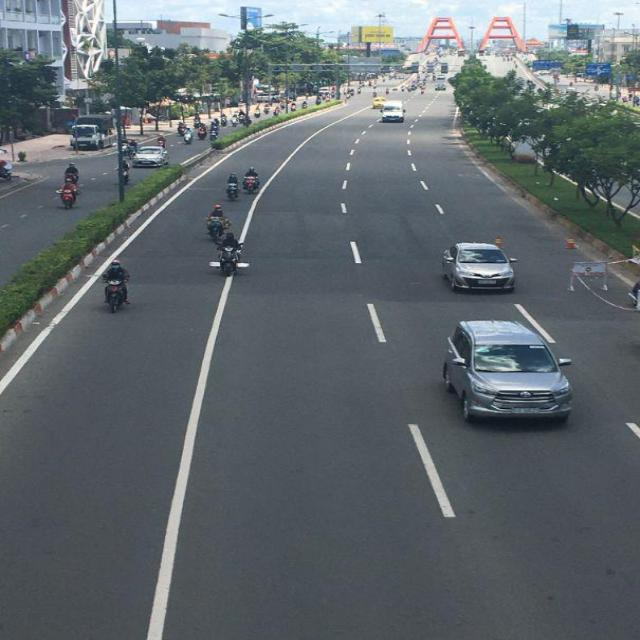car: (444, 316, 576, 426), (444, 241, 518, 293), (134, 149, 170, 169), (382, 104, 407, 124)
motorcycle: (215, 239, 247, 276), (105, 283, 129, 313), (60, 186, 78, 208), (226, 176, 239, 200), (0, 160, 12, 180)
truck: (71, 114, 119, 154)
